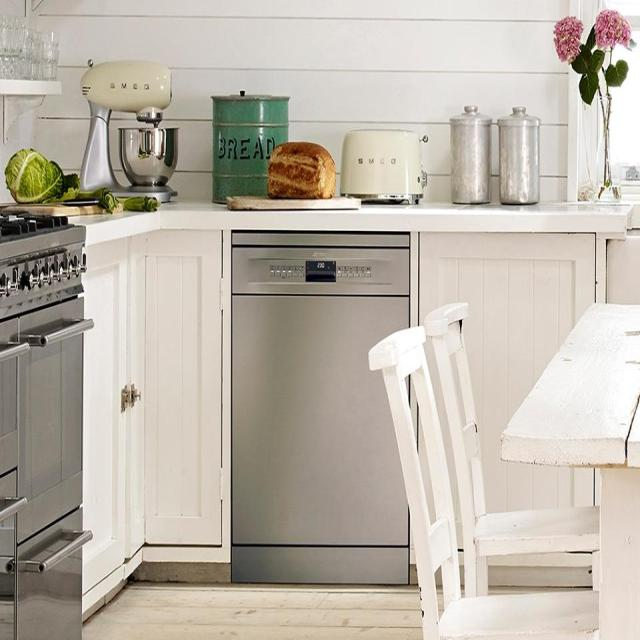dishwasher: (228, 227, 414, 589)
